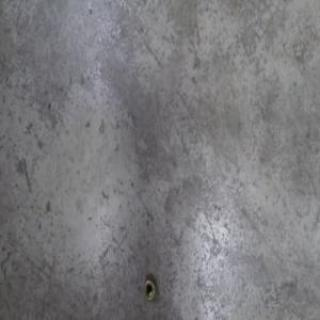Nuttrack_idkeyframe: (142, 276, 156, 302)
